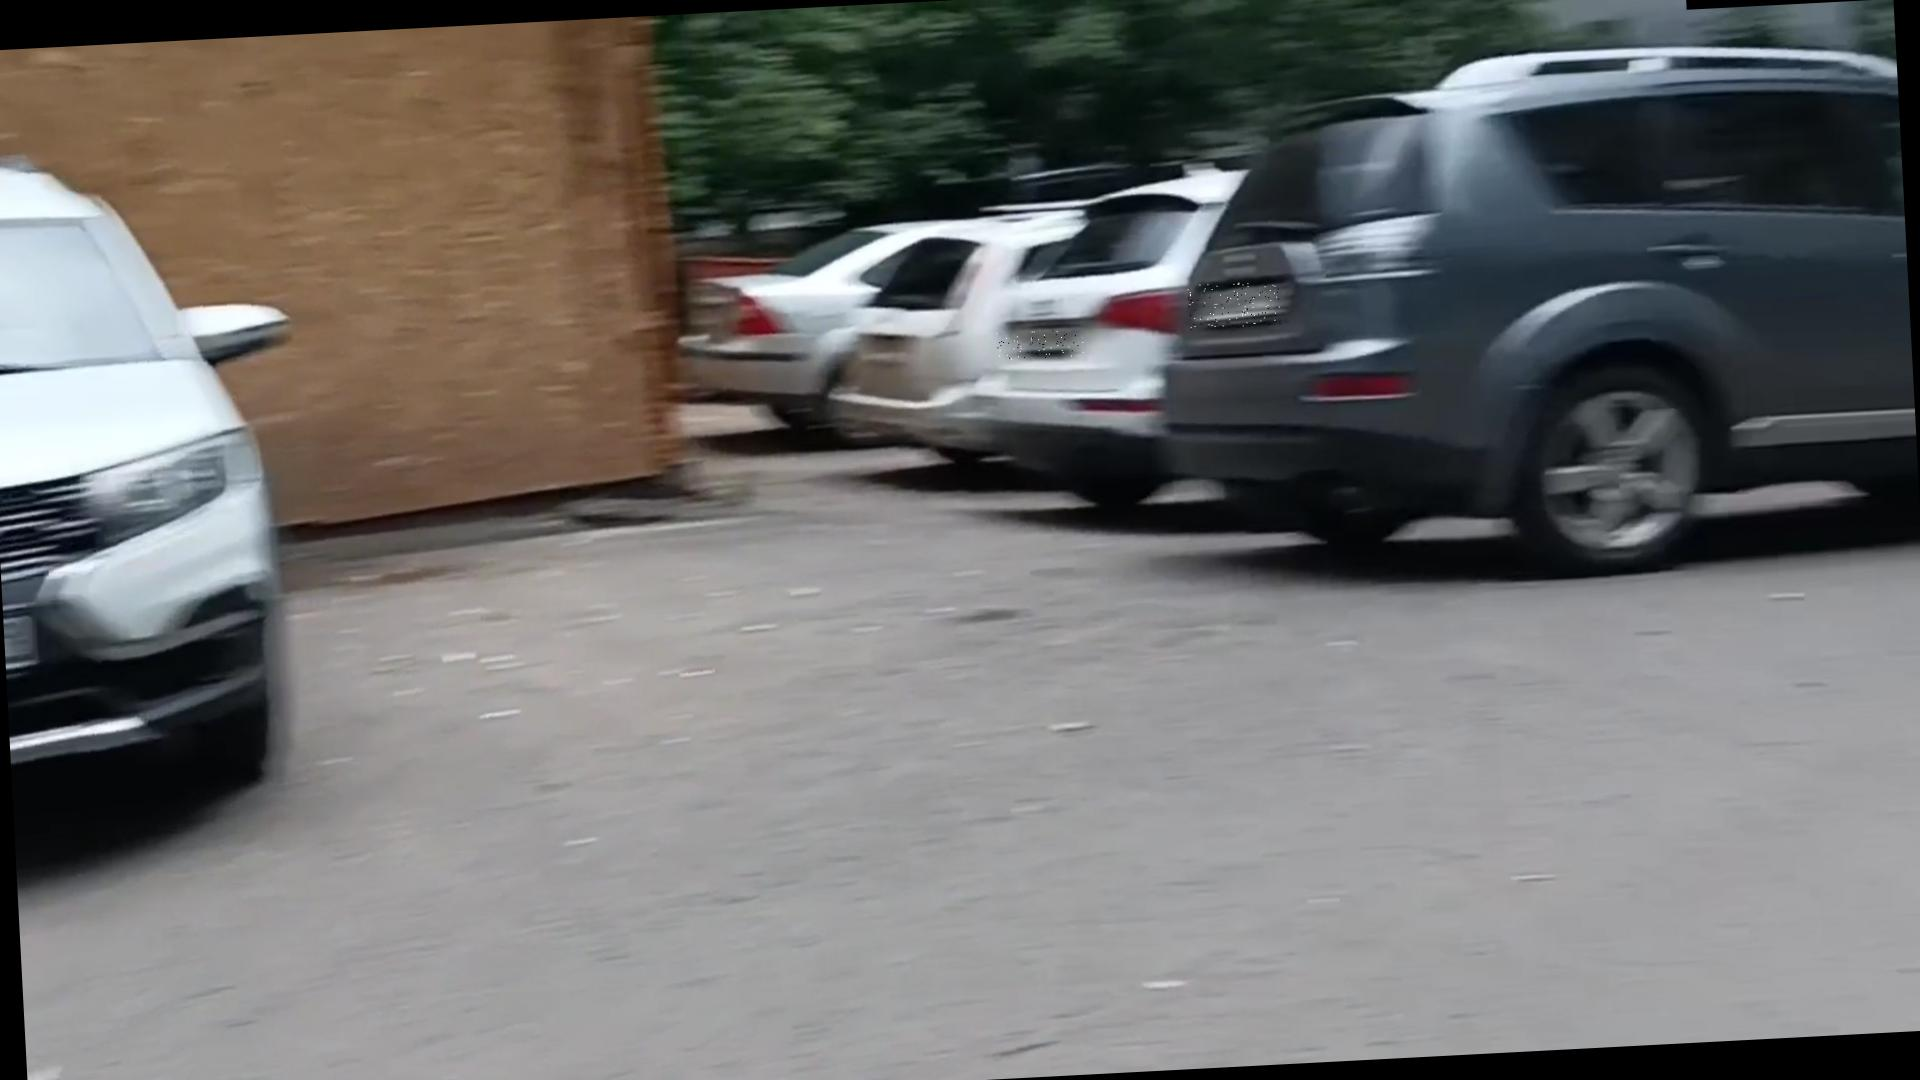plate: (1189, 281, 1282, 331), (998, 329, 1085, 361)
